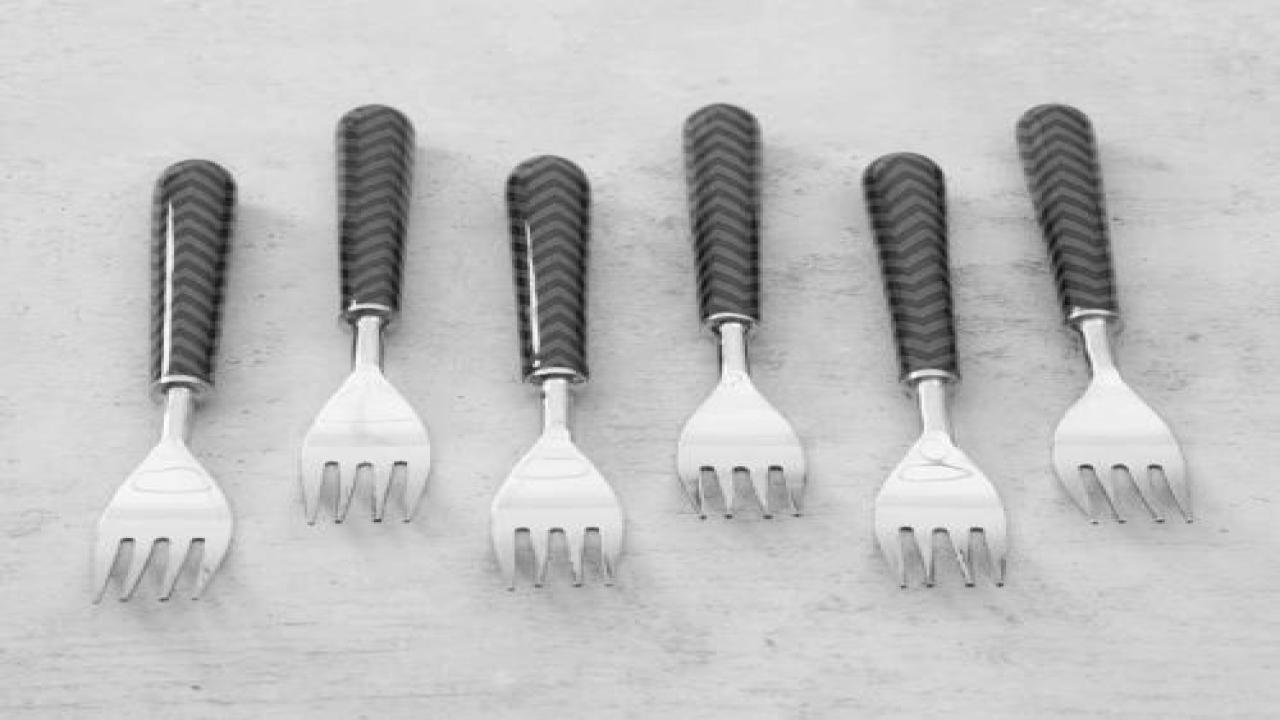fork: (1014, 102, 1196, 525), (860, 150, 1009, 588), (90, 158, 236, 602), (486, 153, 624, 589), (297, 102, 430, 524), (674, 102, 806, 521)
